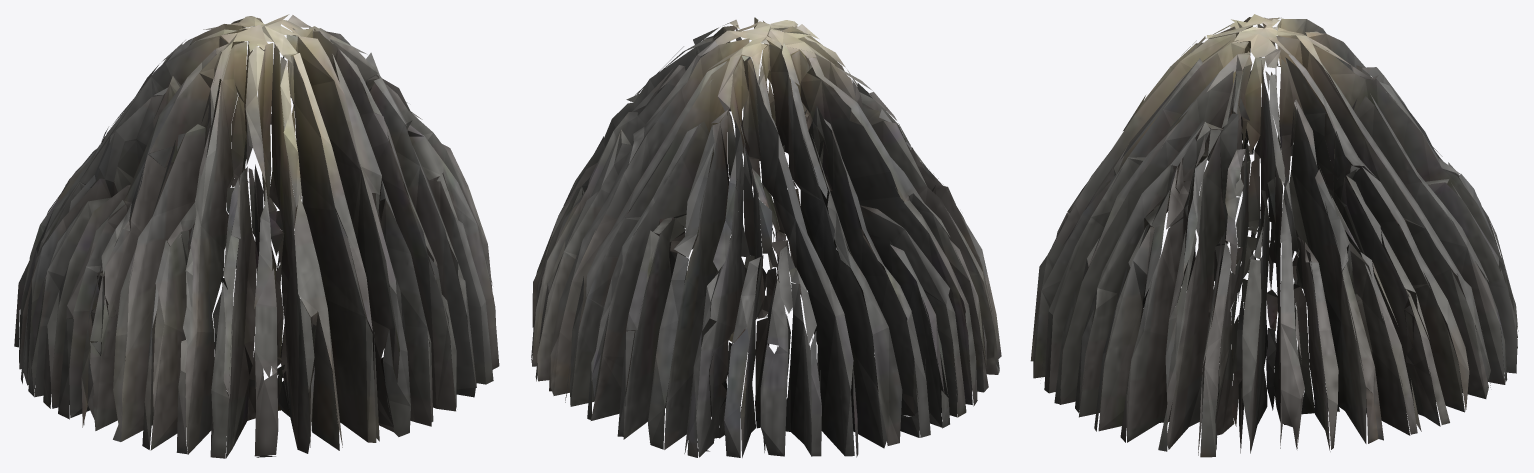
File: x-pierre-rayee.glb
3 renders of one model, left to right at view 1: azimuth 30°, elevation 25°; view 2: azimuth 150°, elevation 25°; view 3: azimuth 270°, elevation 25°, orthographic. The views are drawn at different scales.
Parts seen in each view (by area): view 1: geometry_0; view 2: geometry_0; view 3: geometry_0.
Boxes of the visible parts, bbox=[...] form: geometry_0: bbox=[14, 14, 499, 458]; geometry_0: bbox=[531, 17, 1001, 457]; geometry_0: bbox=[1030, 14, 1518, 457].
Bounding box in the file's own units: 0.9967 × 0.7755 × 1.
Materials: 1 (1 with a texture image).
